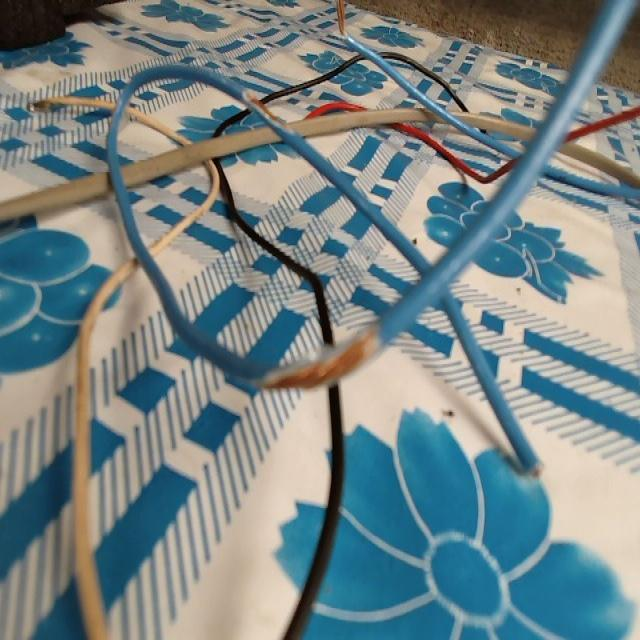-: (254, 319, 384, 397), (239, 82, 297, 146), (331, 0, 358, 44)
